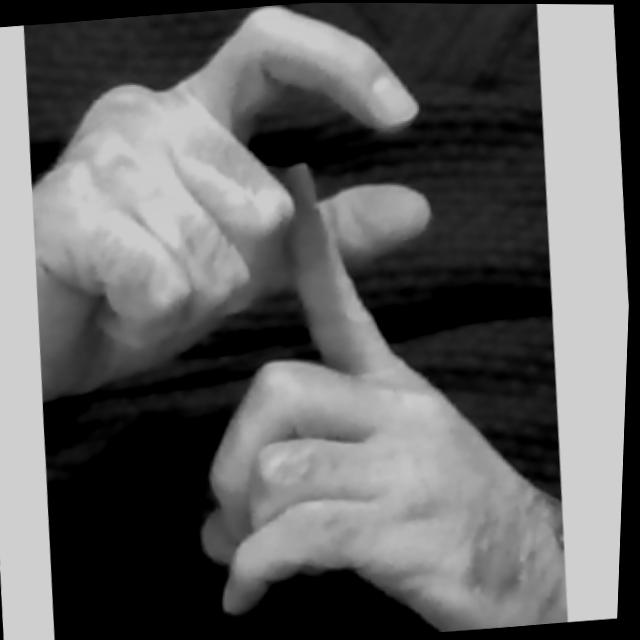C_: (0, 0, 580, 640)
